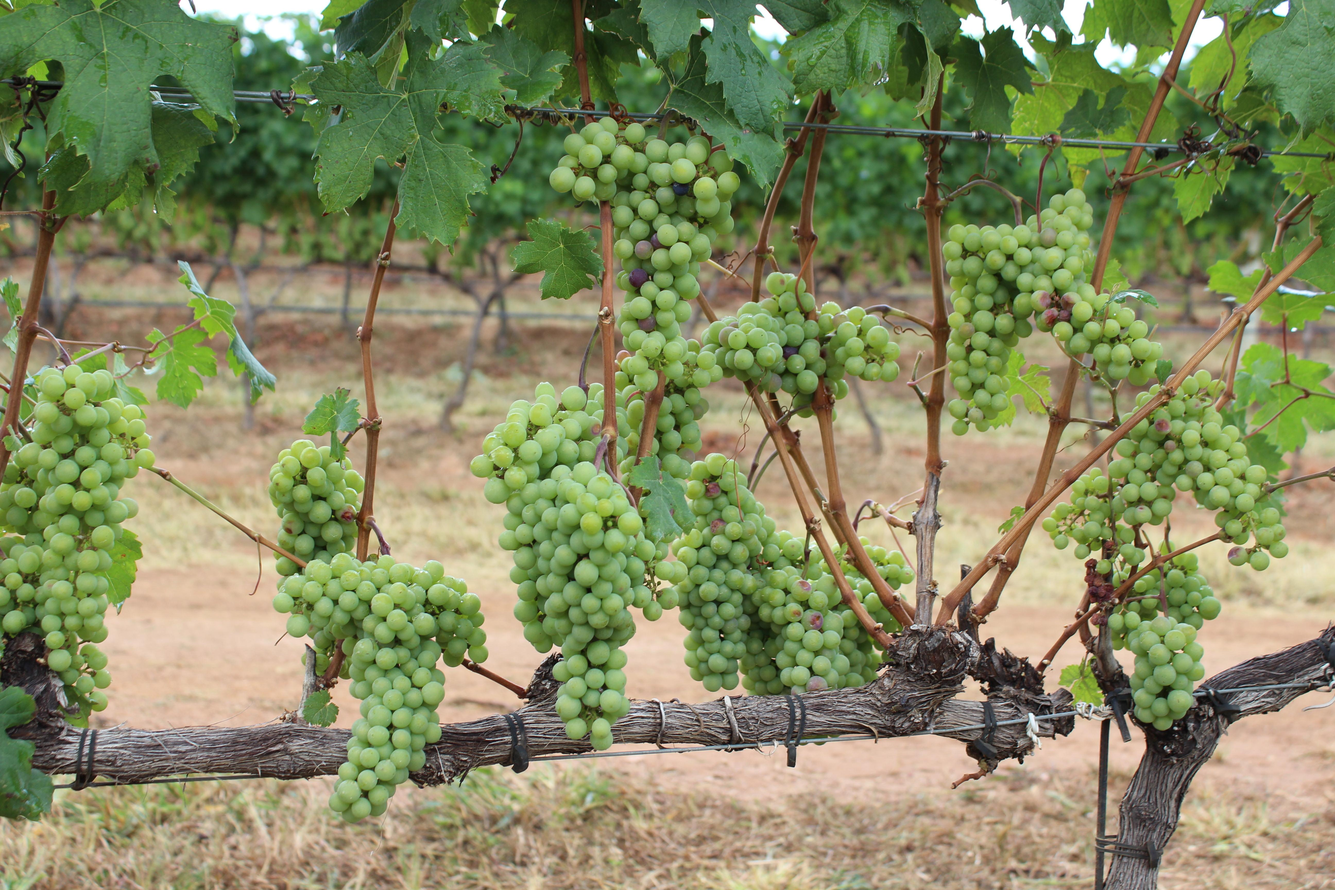leaf: (0, 0, 237, 185), (311, 31, 503, 245), (668, 36, 783, 189), (684, 0, 792, 130), (178, 261, 276, 402), (785, 0, 915, 94), (1250, 0, 1335, 133), (952, 27, 1033, 132), (510, 219, 604, 299), (479, 26, 570, 105), (0, 686, 53, 820), (623, 456, 691, 542), (146, 327, 217, 407), (1082, 0, 1173, 48), (1174, 156, 1233, 222), (1060, 86, 1129, 138), (639, 0, 700, 57), (105, 529, 142, 610), (409, 0, 469, 41), (1207, 260, 1262, 301), (764, 0, 829, 34), (1008, 0, 1069, 32), (1059, 662, 1104, 705), (0, 277, 23, 352), (302, 689, 339, 727), (475, 11, 495, 34), (935, 0, 942, 5), (752, 4, 754, 12), (688, 41, 689, 46), (957, 19, 957, 21)
